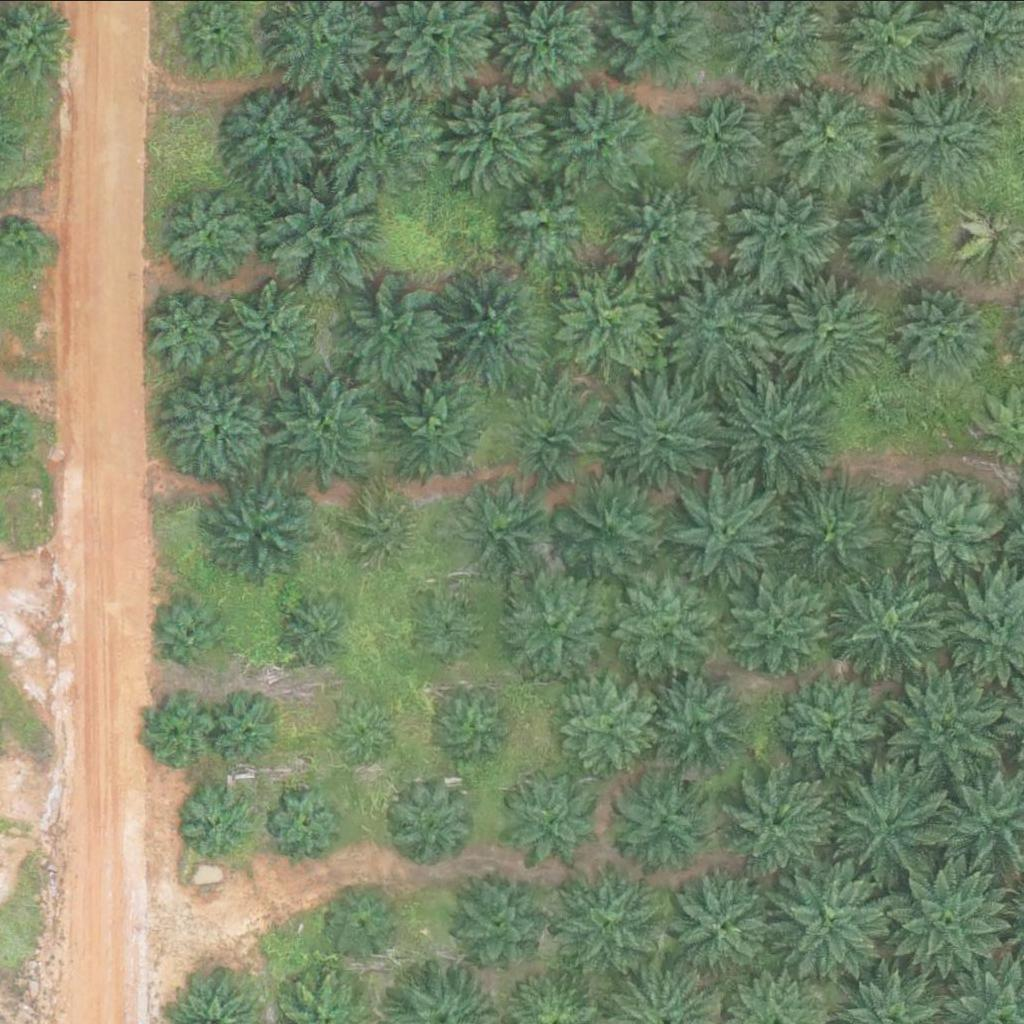Kelapa_Sawit: (199, 471, 325, 596), (665, 469, 791, 594), (260, 364, 386, 489), (330, 269, 456, 394), (263, 172, 389, 297), (322, 69, 448, 194), (887, 471, 1013, 596), (827, 567, 953, 692), (770, 669, 896, 794), (880, 664, 1006, 789), (720, 757, 846, 882), (828, 760, 954, 885), (763, 854, 889, 979), (883, 856, 1009, 981), (550, 864, 664, 977), (440, 75, 554, 188), (663, 868, 776, 981), (556, 473, 669, 586), (610, 377, 723, 490), (545, 77, 658, 190), (663, 84, 776, 197), (770, 275, 883, 388), (883, 279, 996, 392), (722, 381, 835, 494), (496, 568, 609, 680), (611, 566, 724, 678), (382, 368, 495, 480), (498, 381, 611, 493), (435, 269, 548, 381), (554, 264, 667, 376), (664, 271, 777, 383), (609, 183, 722, 295), (774, 79, 887, 191), (888, 80, 1001, 192), (725, 179, 838, 291), (775, 477, 888, 589), (727, 568, 840, 680), (163, 379, 264, 479), (453, 870, 553, 970), (502, 768, 602, 868), (617, 766, 717, 866), (563, 675, 663, 775), (651, 676, 751, 776), (220, 280, 320, 380), (226, 90, 326, 190), (388, 775, 476, 863), (431, 680, 519, 768), (501, 178, 589, 266), (853, 188, 941, 276), (454, 484, 542, 571), (141, 287, 229, 374), (167, 193, 255, 280), (329, 879, 405, 954), (347, 490, 422, 565), (180, 782, 255, 857), (272, 782, 347, 857), (138, 698, 213, 773), (216, 694, 291, 769), (153, 596, 228, 671), (283, 593, 358, 668), (413, 587, 488, 662), (335, 701, 398, 763)
